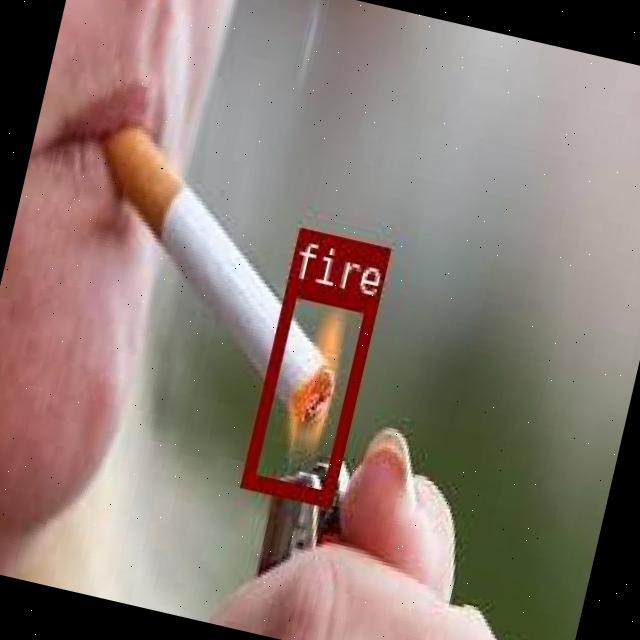fire: (238, 276, 374, 503)
